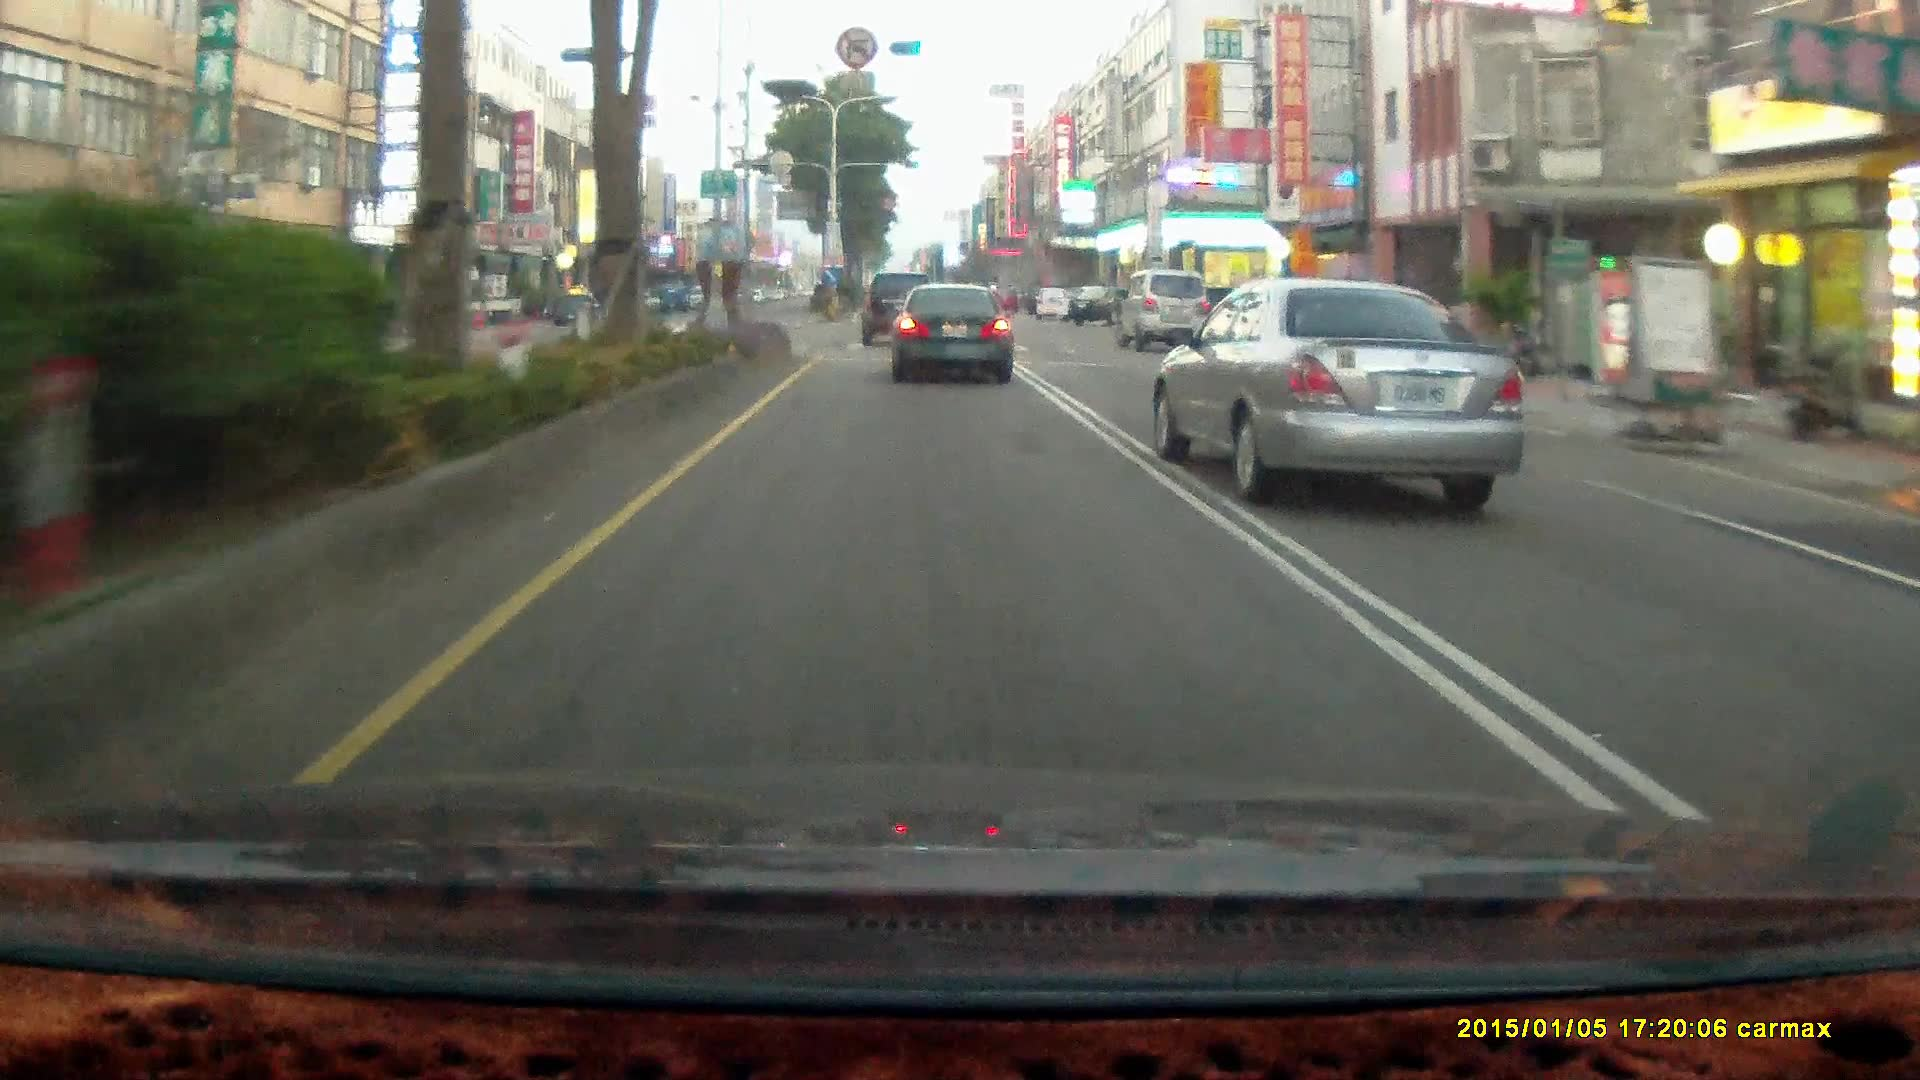vehicle: (1156, 282, 1539, 508), (895, 284, 1017, 386), (890, 284, 1011, 385), (1117, 269, 1211, 357), (1116, 268, 1209, 353), (861, 272, 940, 349), (861, 272, 938, 344), (433, 276, 521, 326), (1068, 282, 1138, 323), (553, 294, 603, 324), (1034, 286, 1073, 319)
